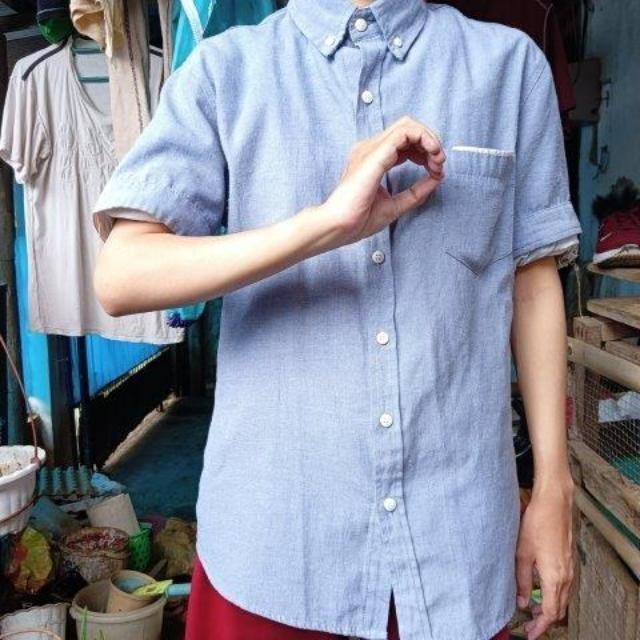O: (340, 109, 450, 229)
